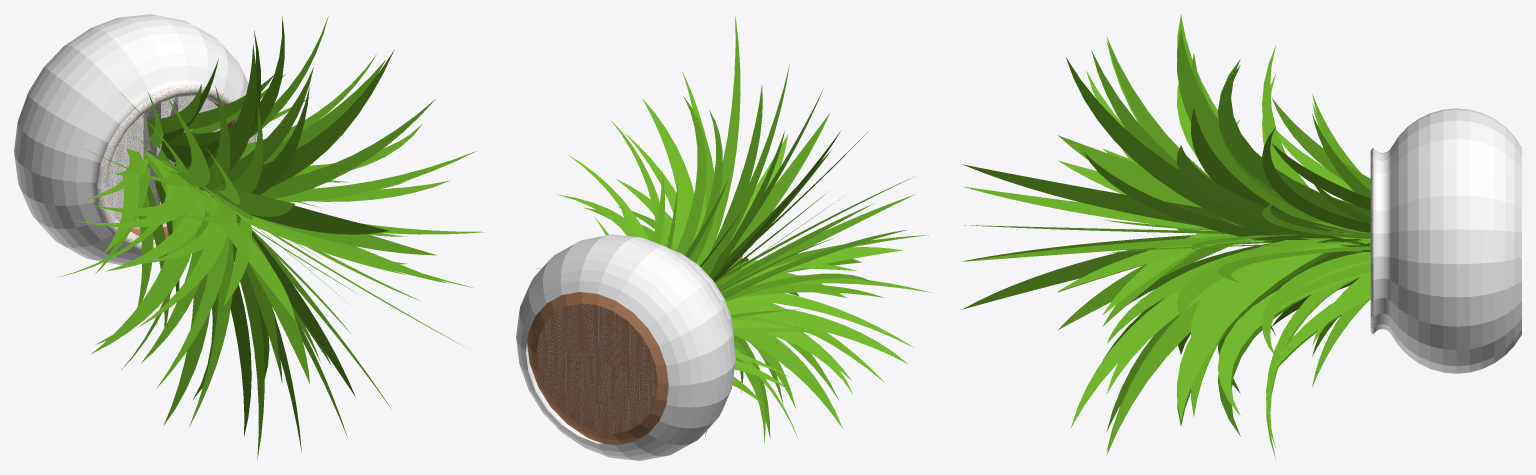
The picture shows the model from 3 angles, left to right: view 1: azimuth 30°, elevation 25°; view 2: azimuth 150°, elevation 25°; view 3: azimuth 270°, elevation 25°; orthographic projection. The views are drawn at different scales.
Parts seen in each view (by area): view 1: plant; view 2: plant; view 3: plant.
Part boxes in pixels (left/top/right/bottom): plant: left=14, top=14, right=483, bottom=459; plant: left=516, top=16, right=930, bottom=460; plant: left=962, top=15, right=1521, bottom=458.
Size of the model in its own units: 60.25 by 63.89 by 77.61.
